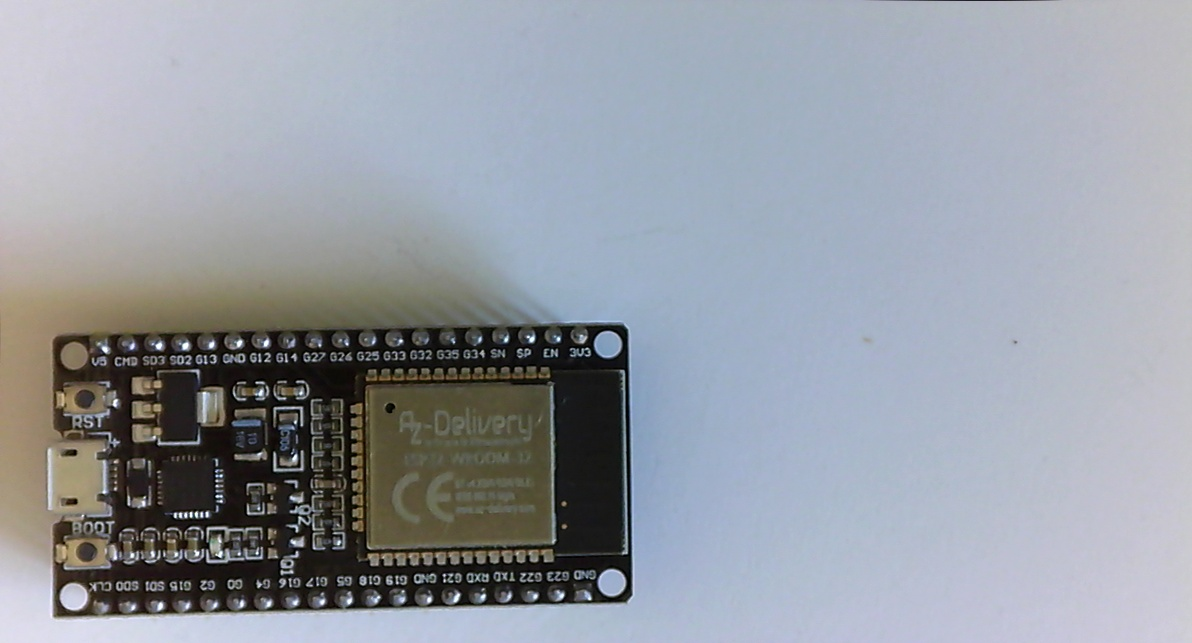esp32: (36, 322, 644, 620)
